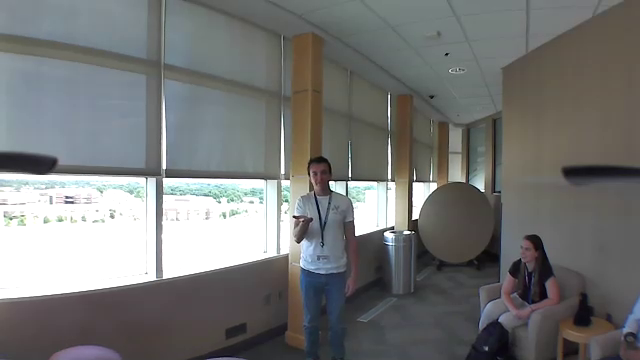land: (288, 210, 322, 229)
